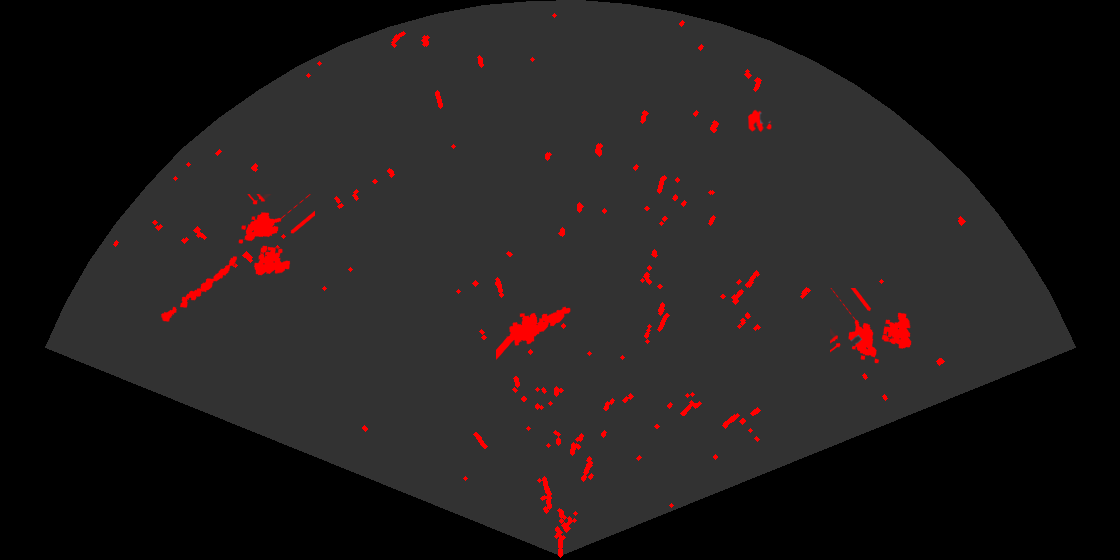ball: (746, 108, 773, 134)
cage: (237, 194, 315, 277), (830, 288, 913, 365)
chain: (159, 255, 239, 323)
frogman: (496, 305, 572, 361)
